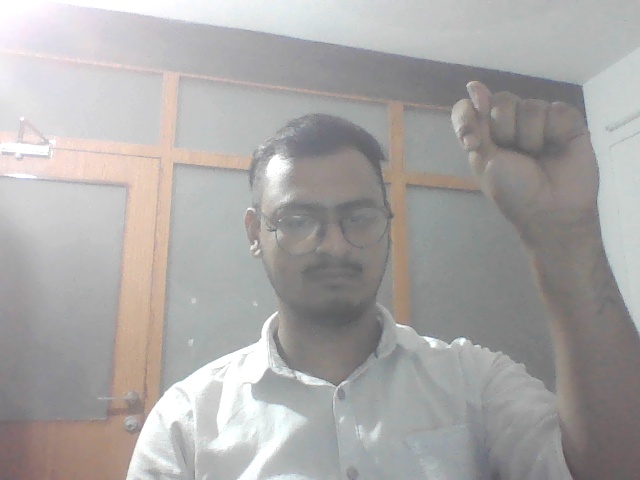Toilet: (446, 78, 619, 236)
